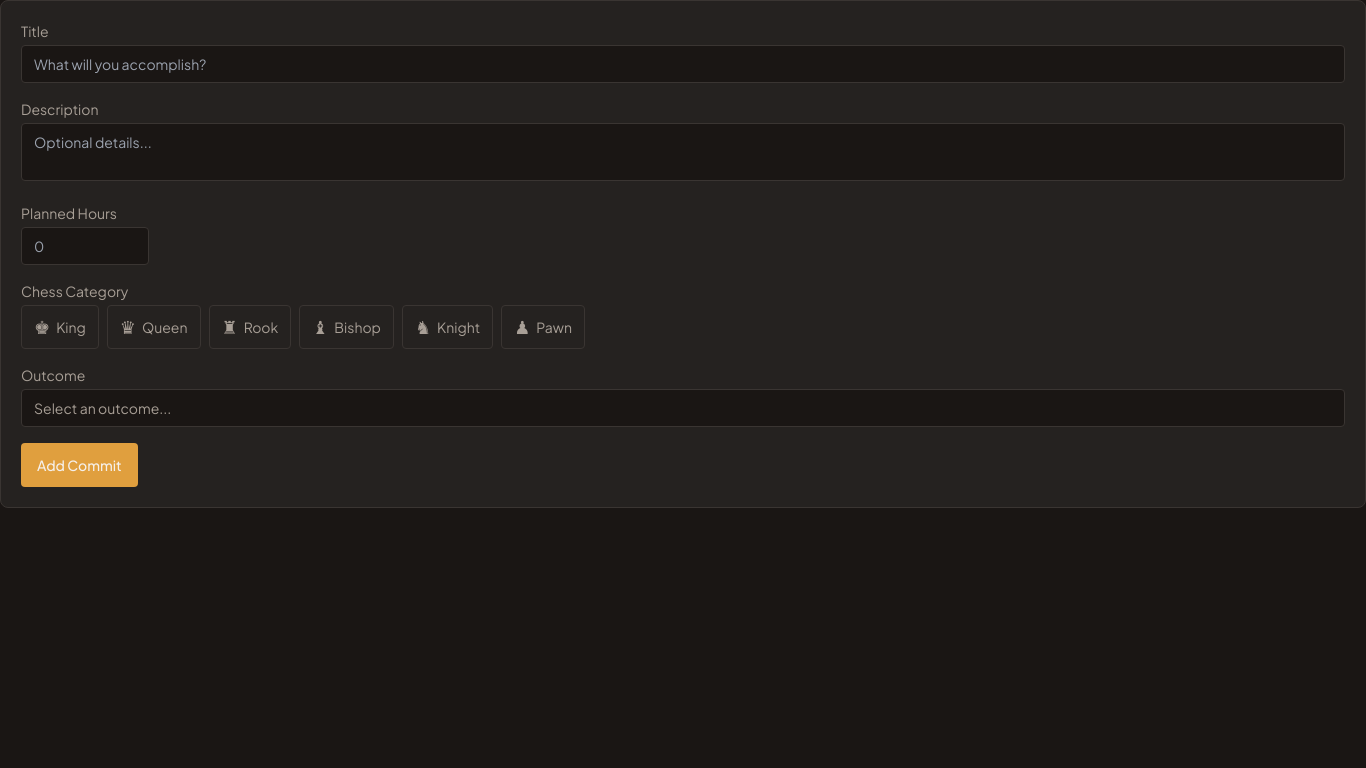
Test: CommitForm › RCDO tree picker has role=tree and aria-expanded
This screenshot has width=1366, height=768.
Step 1. Click the button with aria-label "select outcome" → (103, 408), box [21,389,1345,427]
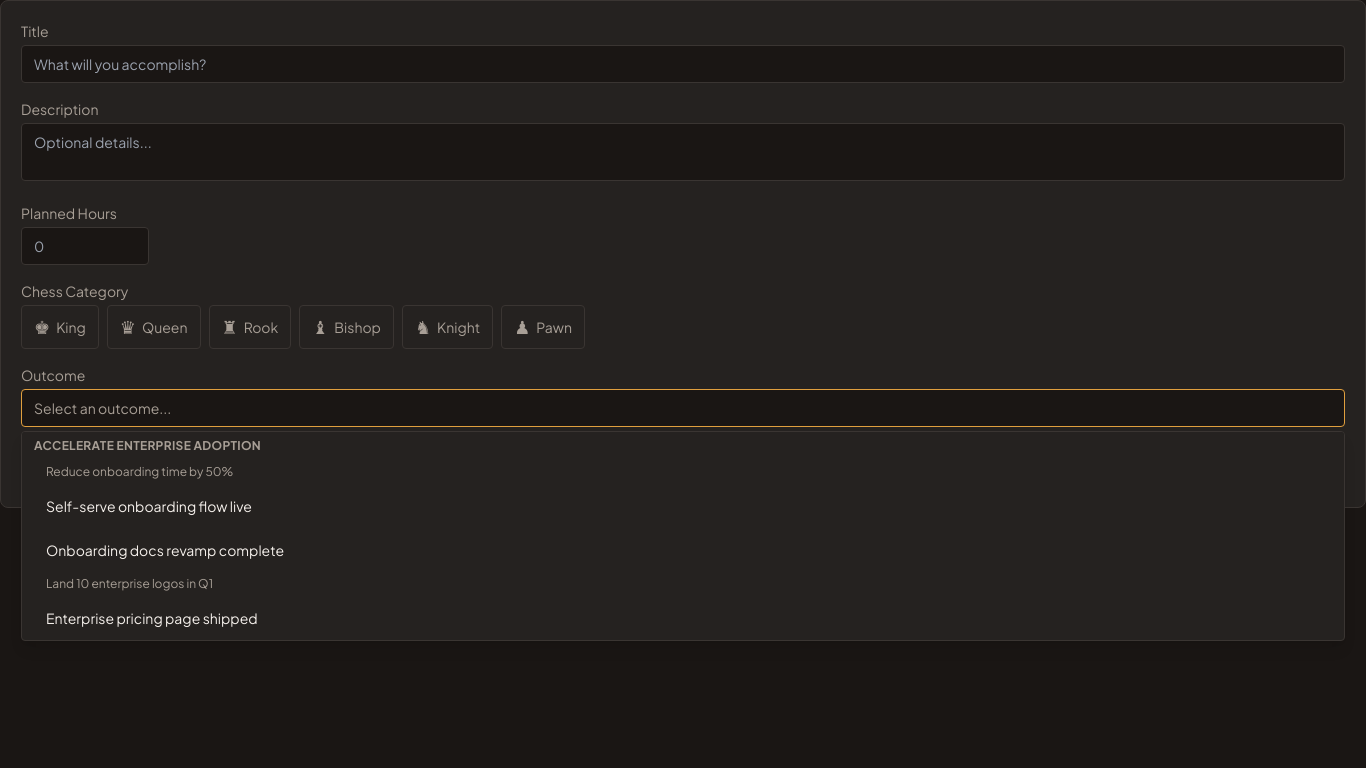
Expected: the element named "RCDO outcome hierarchy" is shown, [21,431,1345,641]
